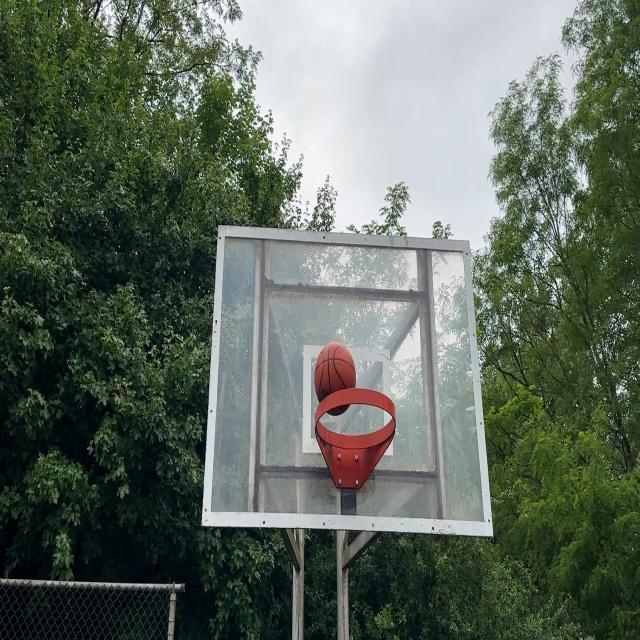rebound_hit: (314, 342, 357, 415)
